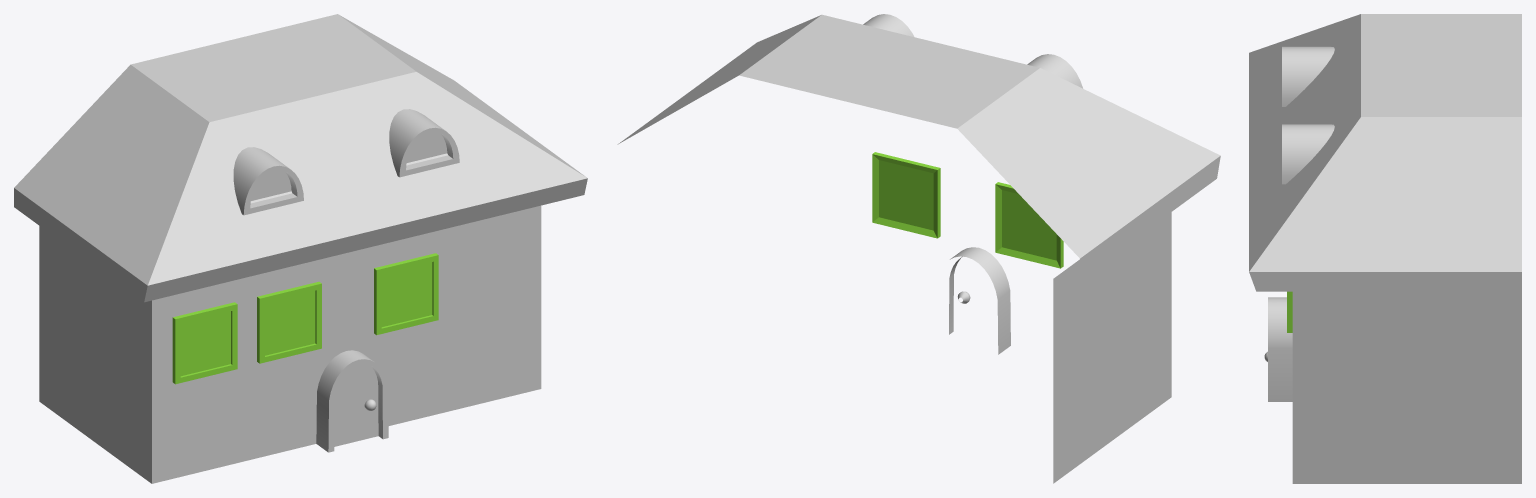
File: House2_Mesh.glb
3 views of the same model, side by side, from view 1: azimuth 30°, elevation 25°; view 2: azimuth 150°, elevation 25°; view 3: azimuth 270°, elevation 25° (orthographic). The views are drawn at different scales.
Visible parts, largest first — view 1: Cube.052, Cylinder.024, Window.012, Window.010, Window.009, Cylinder.005, Cylinder.006; view 2: Cube.052, Window.009, Window.010, Cylinder.024, Cylinder.005; view 3: Cube.052, Cylinder.024, Cylinder.005, Cylinder.006.
Part boxes in pixels (x1,y1,x2,y2): Cube.052: (14,14,587,483); Cylinder.024: (316,350,388,452); Window.012: (172,302,237,384); Window.010: (257,281,321,363); Window.009: (374,253,438,335); Cylinder.005: (233,147,303,215); Cylinder.006: (389,109,459,177); Cube.052: (617,14,1220,483); Window.009: (872,152,940,238); Window.010: (995,182,1063,268); Cylinder.024: (949,247,1010,354); Cylinder.005: (1027,54,1082,88); Cube.052: (1249,14,1521,483); Cylinder.024: (1268,297,1292,401); Cylinder.005: (1282,46,1334,106); Cylinder.006: (1282,124,1334,184).
Bounding box in the file's own units: 29.89 × 20.43 × 15.72.
